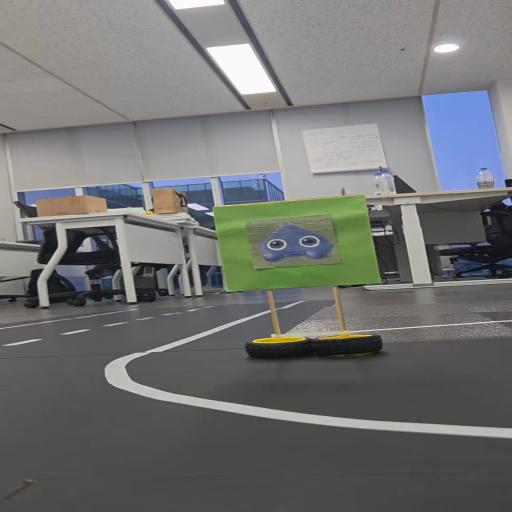Sign_B: (207, 194, 389, 365)
